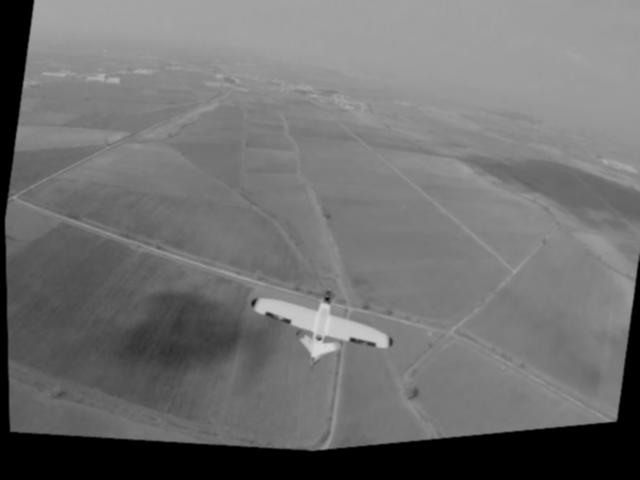hedef: (235, 265, 404, 400)
